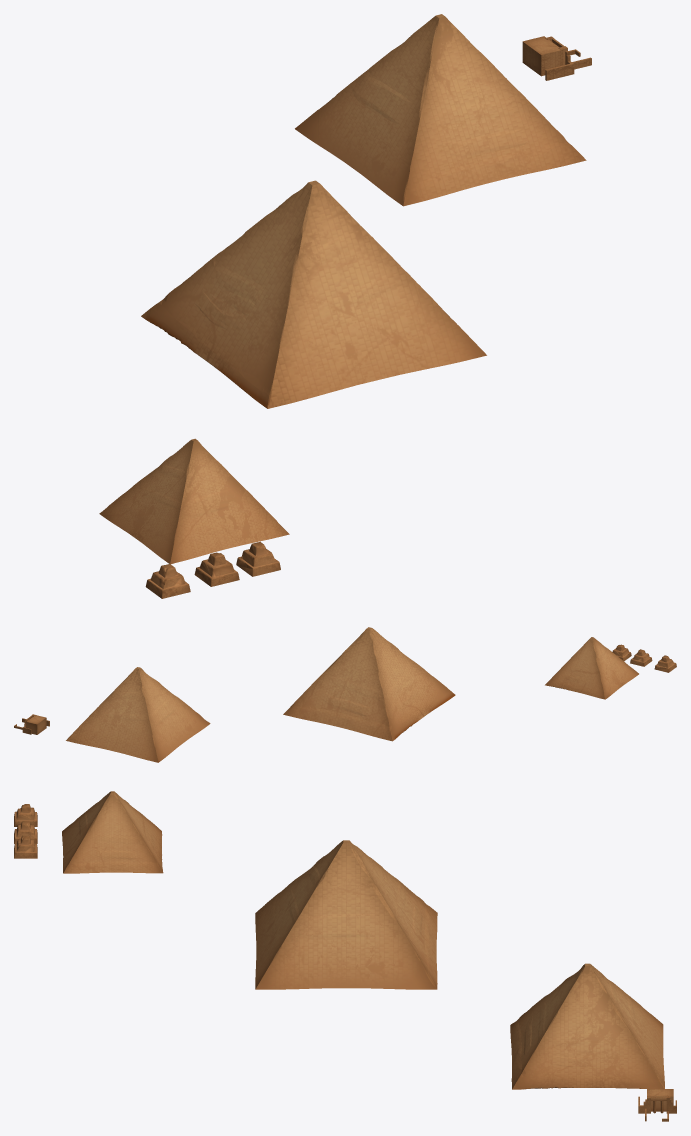
Rendered from pyramids .fbx.
3 renders of one model, top to bottom at view 1: azimuth 30°, elevation 25°; view 2: azimuth 150°, elevation 25°; view 3: azimuth 270°, elevation 25°, orthographic. The views are drawn at different scales.
Parts seen in each view (by area): view 1: Cube, Cube.002, Cube.001, Circle.001, Cube.003, Cube.004, Cube.005; view 2: Cube, Cube.002, Cube.001, Circle.001, Cube.003, Cube.004; view 3: Cube, Cube.002, Cube.001, Circle.001.
Boxes of the visible parts, x1,y1,x2,y2 form: Cube: (141, 180, 486, 408); Cube.002: (295, 14, 586, 206); Cube.001: (99, 438, 289, 563); Circle.001: (522, 36, 591, 80); Cube.003: (145, 564, 190, 598); Cube.004: (194, 552, 239, 586); Cube.005: (236, 541, 280, 576); Cube: (283, 627, 455, 741); Cube.002: (66, 667, 210, 762); Cube.001: (545, 637, 638, 699); Circle.001: (14, 714, 49, 734); Cube.003: (654, 655, 676, 672); Cube.004: (630, 649, 652, 666); Cube: (255, 840, 437, 989); Cube.002: (510, 963, 664, 1089); Cube.001: (62, 791, 163, 873); Circle.001: (638, 1089, 676, 1121).
Size of the model in its own units: 91526 by 15746 by 84176.
